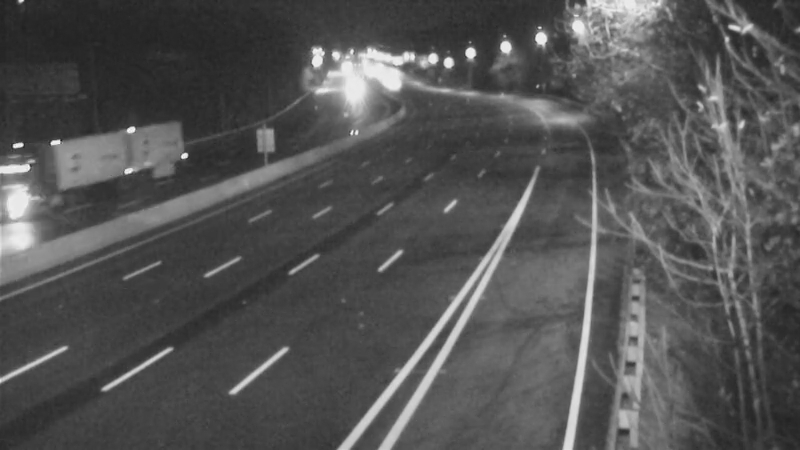vehicle: (53, 130, 133, 210), (366, 57, 416, 107), (327, 70, 377, 120)
